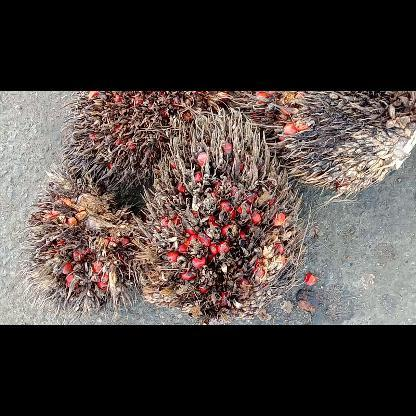Terlalu masak: (132, 102, 314, 324), (10, 166, 148, 324), (228, 91, 414, 205), (58, 91, 230, 205)
